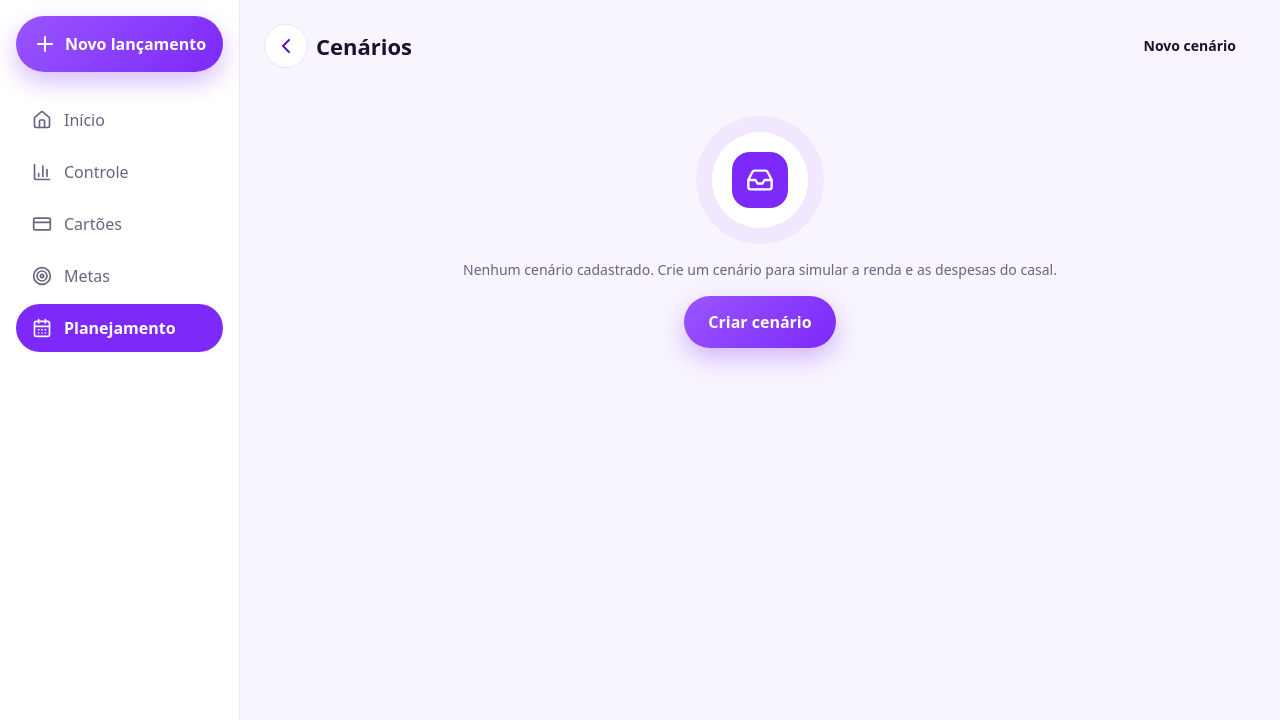
Test: Cenarios: lista (CA-7.11, CA-7.12) › sem cenários mostra o estado vazio e "Criar cenário" abre o formulário
Check: the text "Nenhum cenário cadastrado" is shown, box [463,260,1057,279]
Click the button "Criar cenário" at [760, 322], box [684,296,836,348]
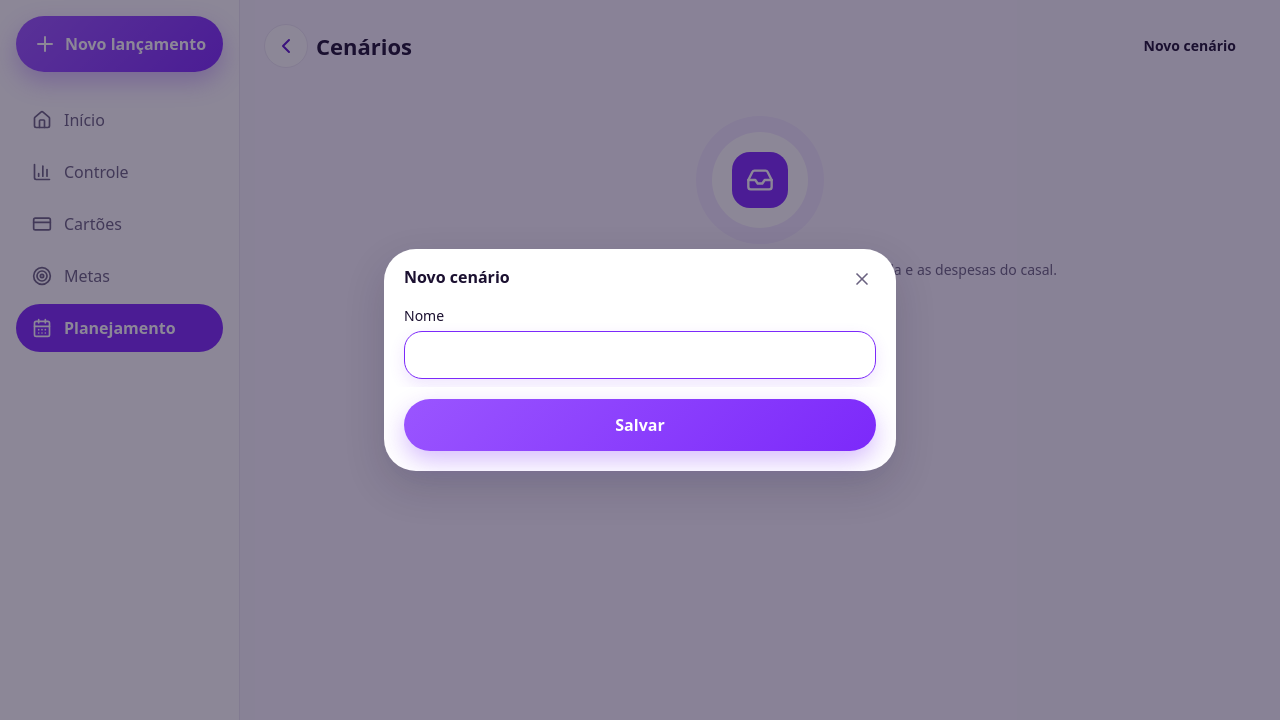
Check: the dialog "Novo cenário" is shown, box [384,249,896,471]
